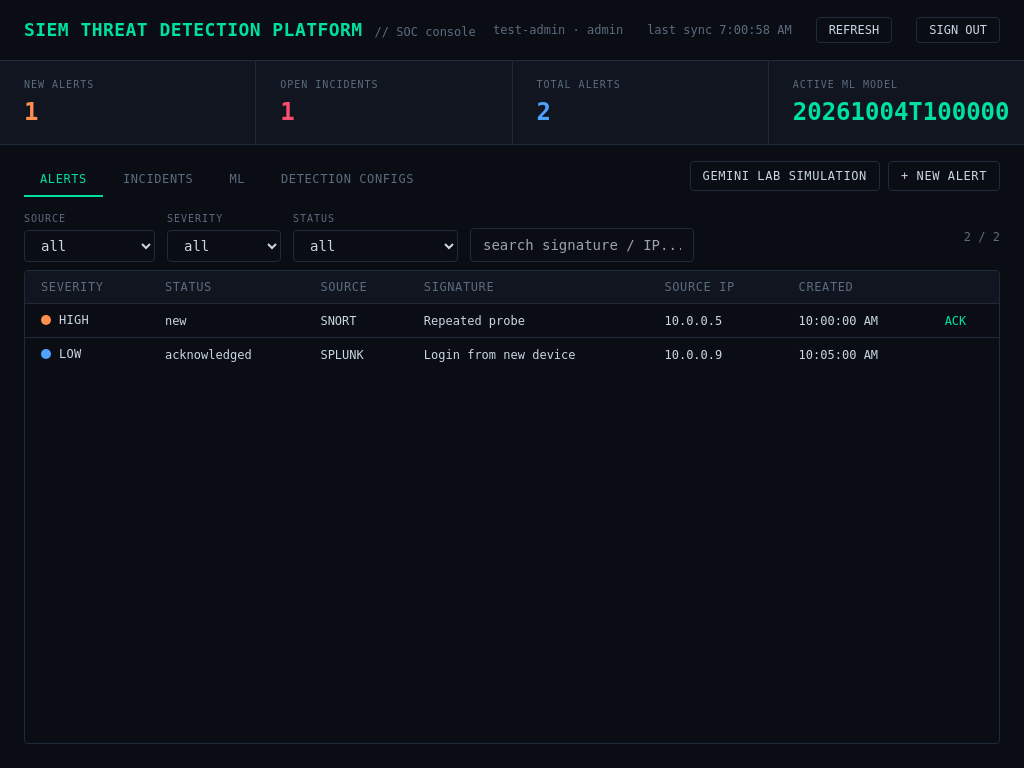
App › switches to the Detection Configs tab and shows seeded configs
Expected: the text "Repeated probe" is shown, [408,304,648,338]
Click the button "Detection Configs": {"x": 348, "y": 180} [265,163,430,197]
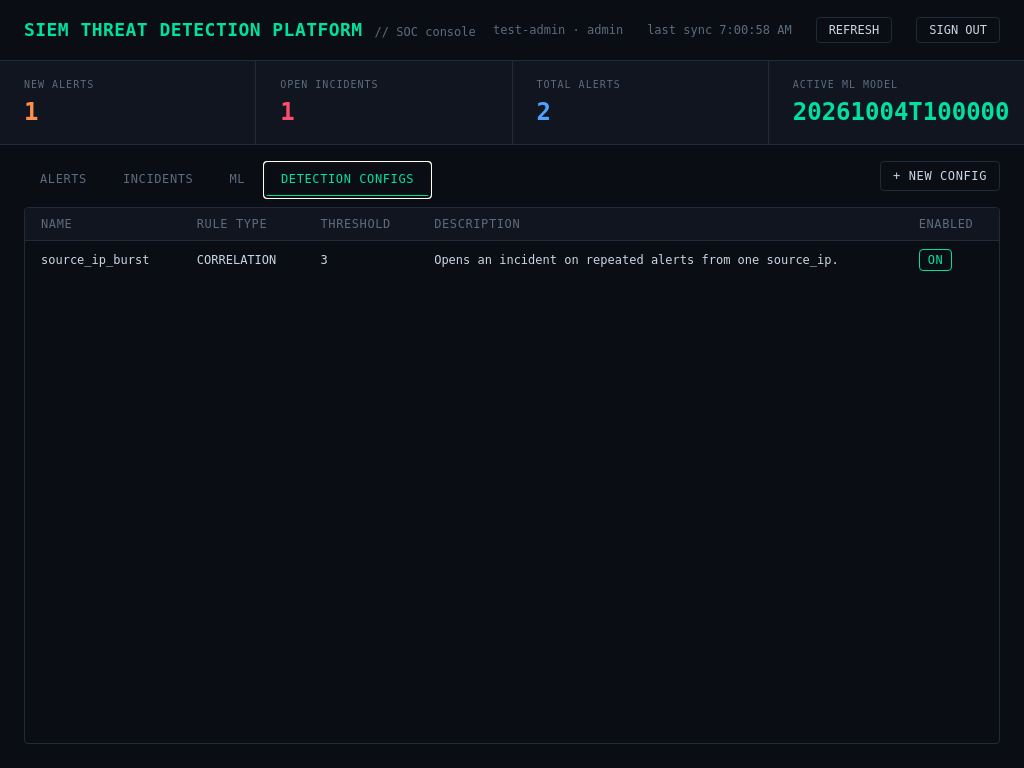
Expected: the text "source_ip_burst" is shown, [25,240,181,279]
Expected: the button "ON" is shown, [919,249,952,271]
